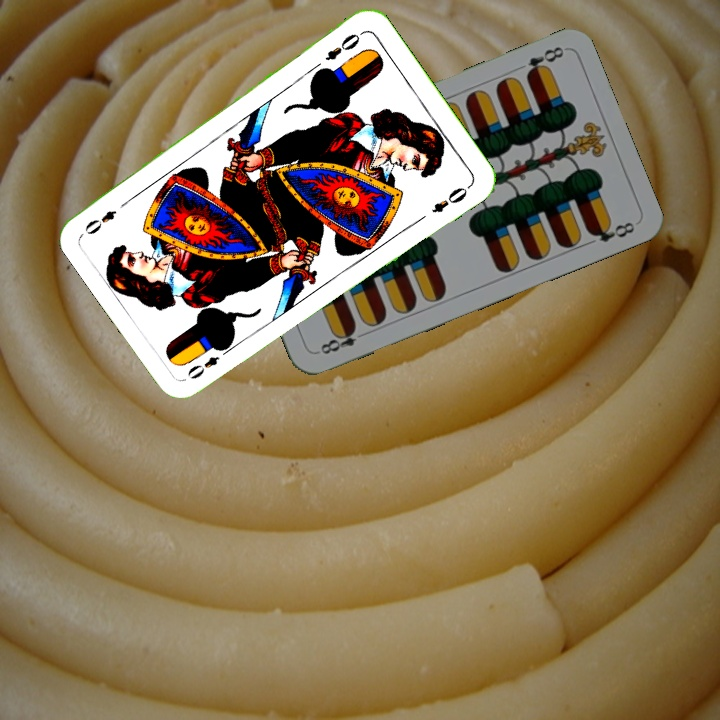E8: (316, 322, 370, 357), (522, 42, 567, 81)
EO: (182, 342, 234, 382), (321, 27, 366, 64)
